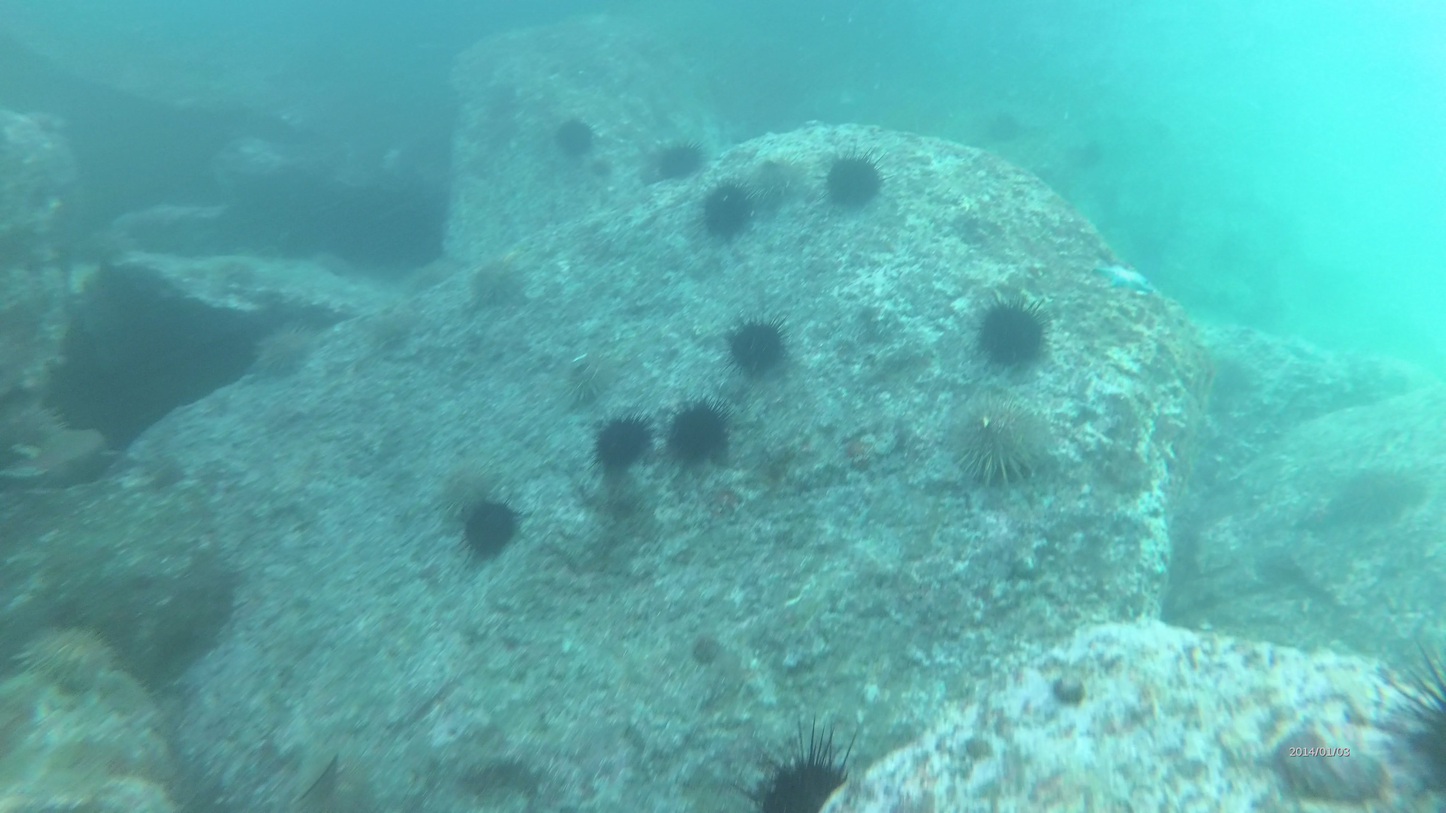starfish: (1370, 637, 1446, 807), (720, 727, 862, 813), (945, 387, 1045, 483), (972, 283, 1053, 376), (814, 145, 896, 215), (722, 308, 794, 385), (592, 410, 659, 477), (462, 261, 532, 320), (667, 402, 729, 467), (692, 179, 755, 241), (461, 499, 523, 561), (252, 327, 319, 379), (431, 463, 498, 514), (650, 136, 714, 186), (360, 302, 422, 353), (558, 356, 615, 407), (548, 116, 597, 162)
